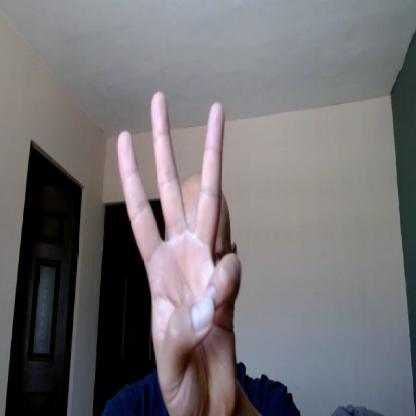W: (116, 85, 243, 415)
